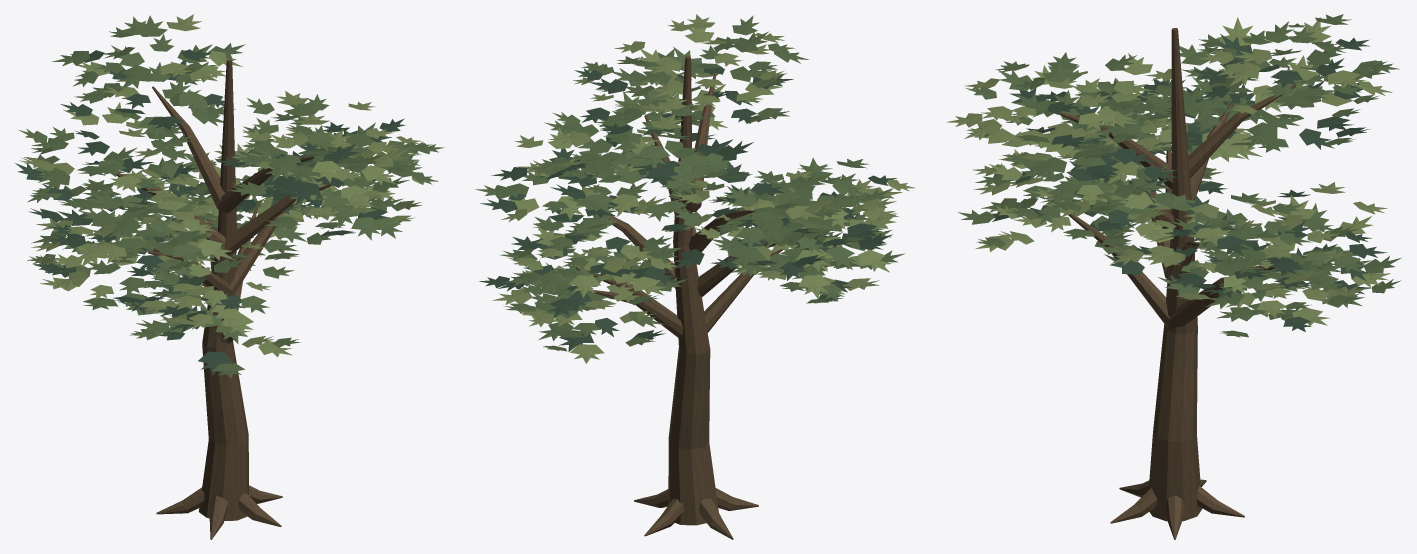
File: NA_Broadleaf_3.glb
3 renders of one model, left to right at view 1: azimuth 30°, elevation 25°; view 2: azimuth 150°, elevation 25°; view 3: azimuth 270°, elevation 25°, orthographic. The views are drawn at different scales.
Visible parts, largest first — view 1: NA_Broadleaf_3; view 2: NA_Broadleaf_3; view 3: NA_Broadleaf_3.
Boxes of the visible parts, <box> form: NA_Broadleaf_3: <box>15,14,444,539</box>; NA_Broadleaf_3: <box>475,14,914,539</box>; NA_Broadleaf_3: <box>946,14,1401,539</box>.
Size of the model in its own units: 2.64 by 3.09 by 2.65.
Materials: 4 (1 with a texture image).
